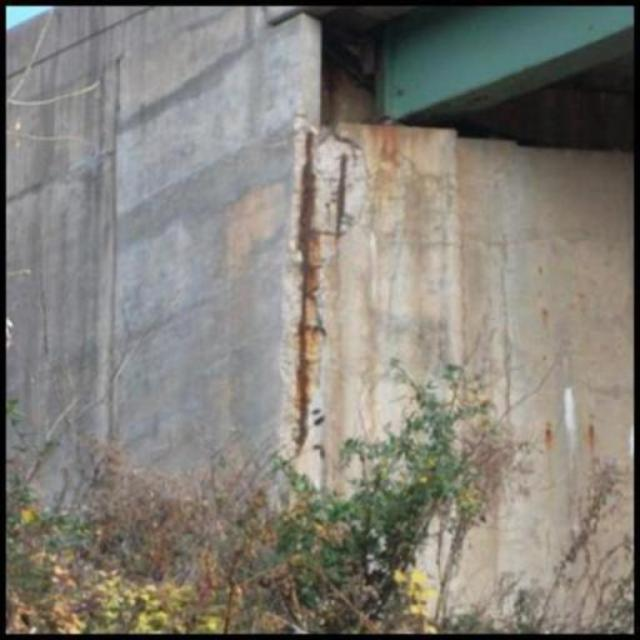D0w0: (278, 122, 370, 465)
